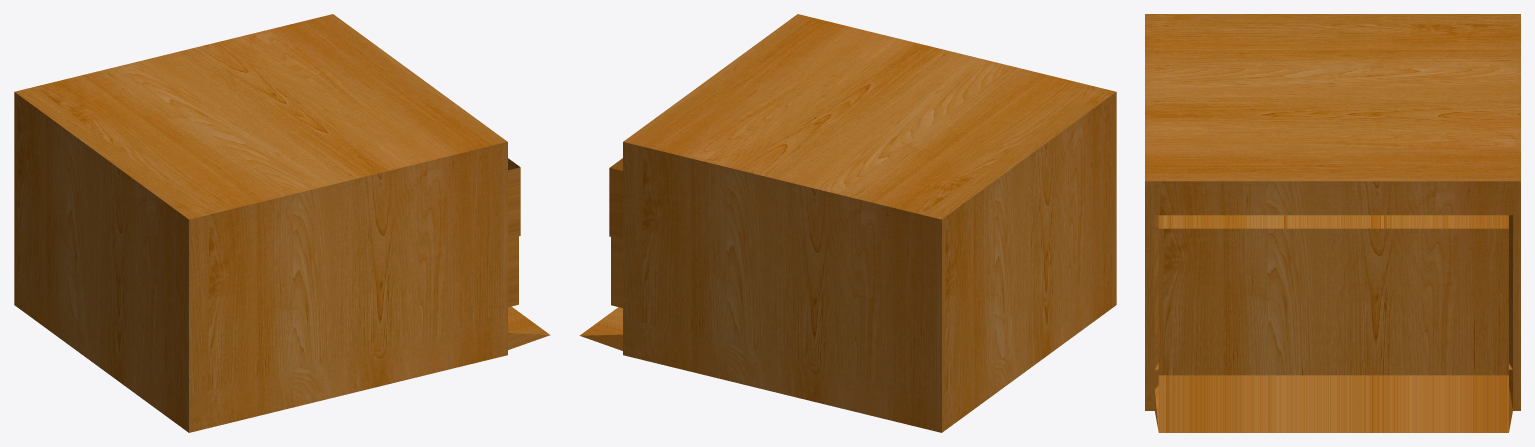
Rendered from Drawers.FBX.
3 views of the same model, side by side, from view 1: azimuth 30°, elevation 25°; view 2: azimuth 150°, elevation 25°; view 3: azimuth 270°, elevation 25° (orthographic). The views are drawn at different scales.
Parts seen in each view (by area): view 1: Box001; view 2: Box001; view 3: Box001.
Boxes of the visible parts, x1,y1,x2,y2 form: Box001: (14,14,550,432); Box001: (579,14,1116,432); Box001: (1145,14,1520,432).
Bounding box in the file's own units: 24.53 × 13.59 × 20.17.
Materials: 1 (1 with a texture image).
